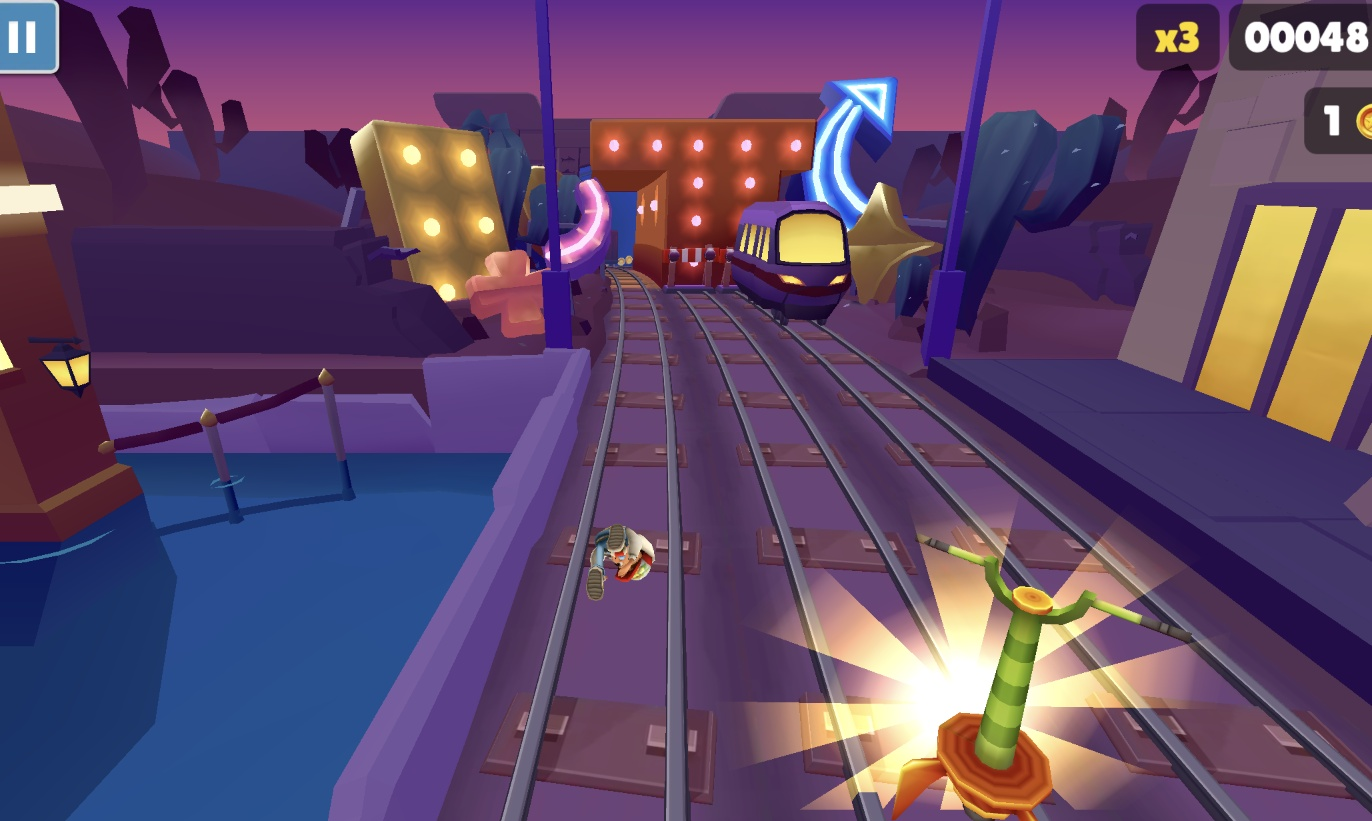ground_barrier: (663, 243, 716, 285), (706, 244, 732, 285)
pillar: (632, 168, 784, 281)
train: (733, 200, 854, 324)
